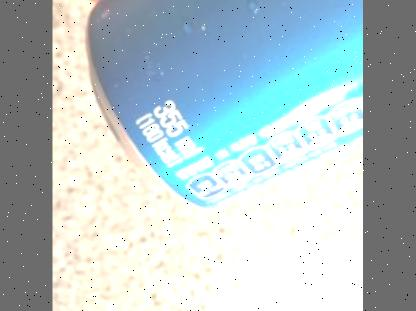Can: (81, 0, 363, 207)
